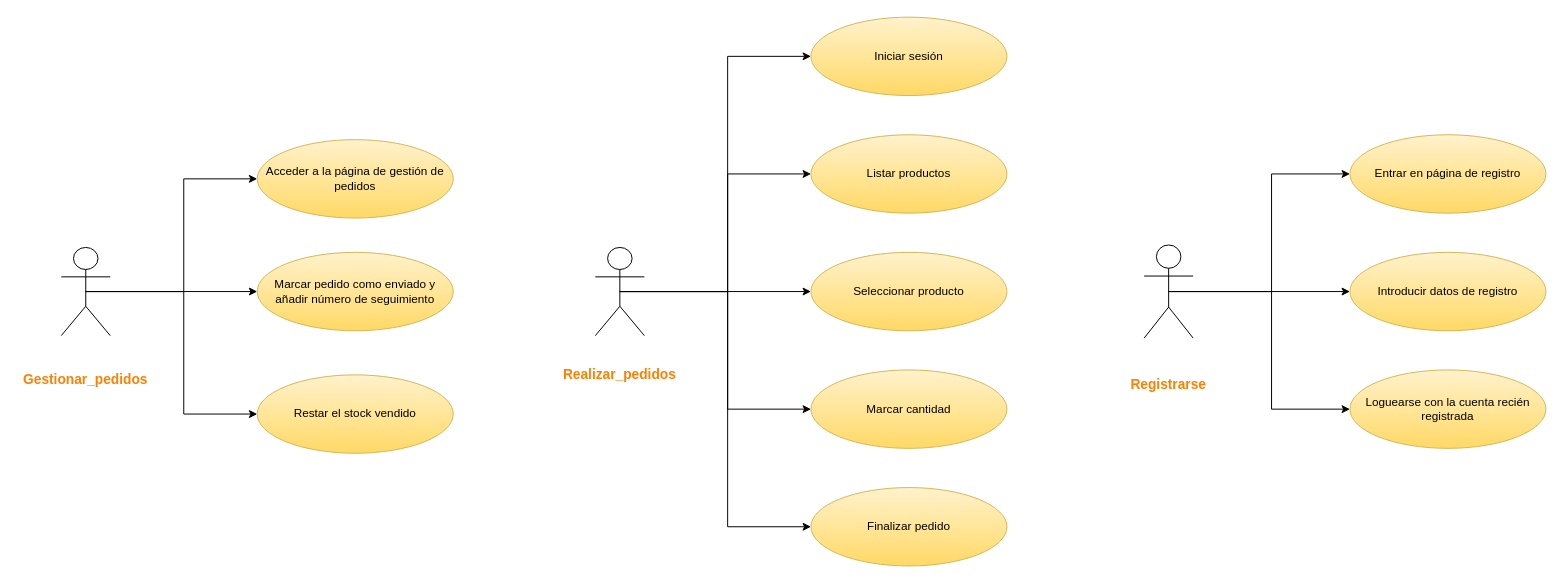
Image size: 1563x583. Some labels were removed from this diagram. Here are the shapes that lost their labels. From the top down, the centre of each, then its label:
pixel 85 291: Admin
pixel 619 291: User
pixel 1168 291: Anonymous user
